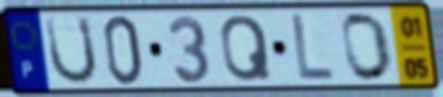0: (100, 13, 146, 88)
3: (165, 12, 212, 87)
L: (289, 11, 336, 83)
O: (339, 10, 395, 84)
Q: (218, 13, 275, 84)
U: (42, 14, 100, 87)
